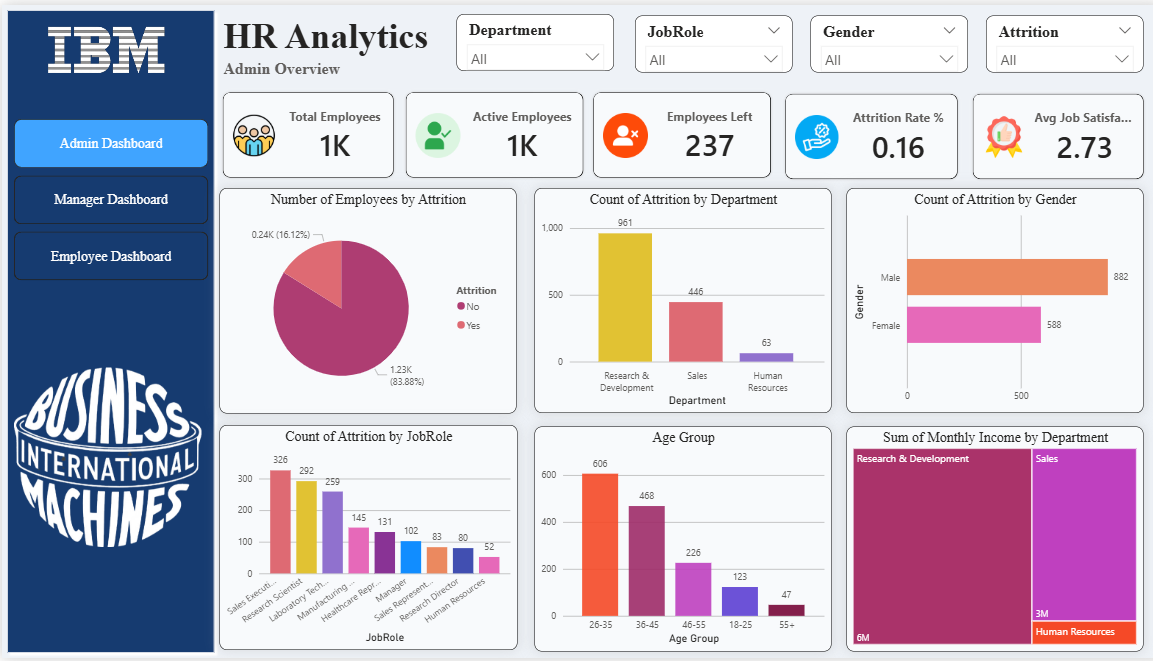

This screenshot's page, from the dashboard's own definition file:
{"tool":"powerbi","page":{"name":"Admin Dashboard","canvas":[1550,870],"ordinal":0},"visuals":[{"type":"shape","box":[0,0,290.2,870.7],"z":0},{"type":"image","box":[0,27.5,278.5,81],"z":1000},{"type":"cardVisual","fields":{"Data":["IBM_DataSet_2.Active Employees"]},"box":[509.7,88,293.4,170.5],"z":2000},{"type":"cardVisual","fields":{"Data":["IBM_DataSet_2.Total Employees"]},"box":[265.9,88,284.2,170.5],"z":3000},{"type":"cardVisual","fields":{"Data":["IBM_DataSet_2.Employees Left"]},"box":[760.9,88,293.4,170.5],"z":4000},{"type":"cardVisual","fields":{"Data":["IBM_DataSet_2.Attrition Rate %"]},"box":[1015.8,89.8,286,170.5],"z":5000},{"type":"cardVisual","fields":{"Data":["Avg(IBM_DataSet_2.JobSatisfaction)"]},"box":[1265.2,89.8,284.2,170.5],"z":6000},{"type":"textbox","title":"HR Analytics","box":[289.7,14.7,1259.7,93.5],"z":7000},{"type":"columnChart","title":"Count of Attrition by Department","fields":{"Category":["IBM_DataSet_2.Department"],"Y":["CountNonNull(IBM_DataSet_2.Attrition)"]},"box":[709.2,244.1,395.9,299.8],"z":8000},{"type":"pieChart","title":"Number of Employees by Attrition","fields":{"Category":["IBM_DataSet_2.Attrition"],"Y":["CountNonNull(IBM_DataSet_2.Attrition)"]},"box":[289.7,243.9,396.1,300.7],"z":9000},{"type":"barChart","title":"Count of Attrition by Gender","fields":{"Y":["CountNonNull(IBM_DataSet_2.Attrition)"],"Category":["IBM_DataSet_2.Gender"]},"box":[1126.3,244.1,395.9,299.8],"z":10000},{"type":"columnChart","title":"Count of Attrition by JobRole","fields":{"Y":["CountNonNull(IBM_DataSet_2.Attrition)"],"Category":["IBM_DataSet_2.JobRole"]},"box":[290.7,560.5,397.1,300.2],"z":11000},{"type":"columnChart","title":"Age Group","fields":{"Category":["IBM_DataSet_2.Age Group"],"Y":["CountNonNull(IBM_DataSet_2.Emp_ID)"]},"box":[709.2,561.2,395.9,299.8],"z":12000},{"type":"pageNavigator","box":[15.4,151.8,259.5,215.3],"z":13000},{"type":"treemap","title":"Sum of Monthly Income by Department","fields":{"Values":["Sum(IBM_DataSet_2.MonthlyIncome)"],"Group":["IBM_DataSet_2.Department"]},"box":[1126.3,561.2,395.9,299.8],"z":14000},{"type":"slicer","fields":{"Values":["IBM_DataSet_2.Department"]},"box":[606,12,210,76],"z":15000},{"type":"slicer","fields":{"Values":["IBM_DataSet_2.JobRole"]},"box":[844,14,210,76],"z":16000},{"type":"slicer","fields":{"Values":["IBM_DataSet_2.Gender"]},"box":[1078,14,210,76],"z":17000},{"type":"slicer","fields":{"Values":["IBM_DataSet_2.Attrition"]},"box":[1312,14,210,76],"z":18000},{"type":"image","box":[16,464,250,278],"z":18001}]}

Visuals, with their boxes in screenshot pixels (x1, y1, x2, y2), scaled from the page's 1550x870 canvas onto the 1153x661 screenshot:
shape: detection(0, 0, 216, 660)
image: detection(0, 21, 207, 82)
cardVisual - IBM_DataSet_2.Active Employees: detection(379, 67, 597, 196)
cardVisual - IBM_DataSet_2.Total Employees: detection(198, 67, 409, 196)
cardVisual - IBM_DataSet_2.Employees Left: detection(566, 67, 784, 196)
cardVisual - IBM_DataSet_2.Attrition Rate %: detection(756, 68, 968, 198)
cardVisual - Avg(IBM_DataSet_2.JobSatisfaction): detection(941, 68, 1152, 198)
"HR Analytics" textbox: detection(215, 11, 1152, 82)
"Count of Attrition by Department" columnChart: detection(528, 185, 822, 413)
"Number of Employees by Attrition" pieChart: detection(215, 185, 510, 414)
"Count of Attrition by Gender" barChart: detection(838, 185, 1132, 413)
"Count of Attrition by JobRole" columnChart: detection(216, 426, 512, 654)
"Age Group" columnChart: detection(528, 426, 822, 654)
pageNavigator: detection(11, 115, 204, 279)
"Sum of Monthly Income by Department" treemap: detection(838, 426, 1132, 654)
slicer - IBM_DataSet_2.Department: detection(451, 9, 607, 67)
slicer - IBM_DataSet_2.JobRole: detection(628, 11, 784, 68)
slicer - IBM_DataSet_2.Gender: detection(802, 11, 958, 68)
slicer - IBM_DataSet_2.Attrition: detection(976, 11, 1132, 68)
image: detection(12, 353, 198, 564)
